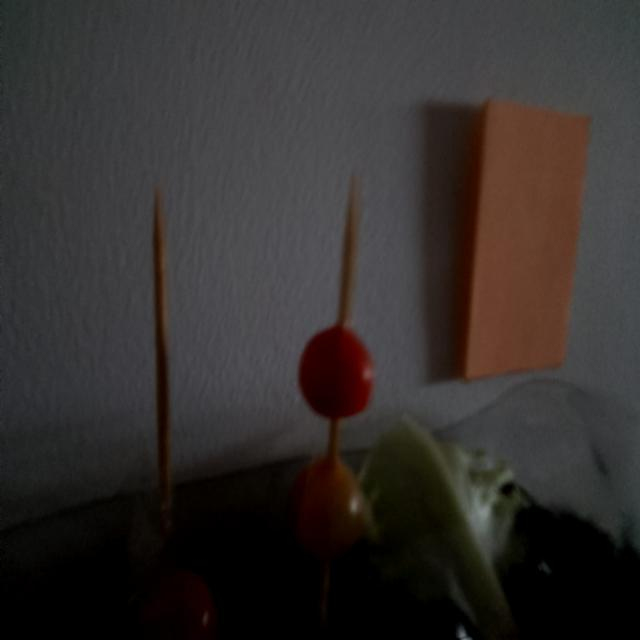card: (460, 100, 589, 379)
fruit_maturation: (288, 458, 364, 561)
fully_grown: (299, 325, 374, 418), (136, 569, 218, 639)
